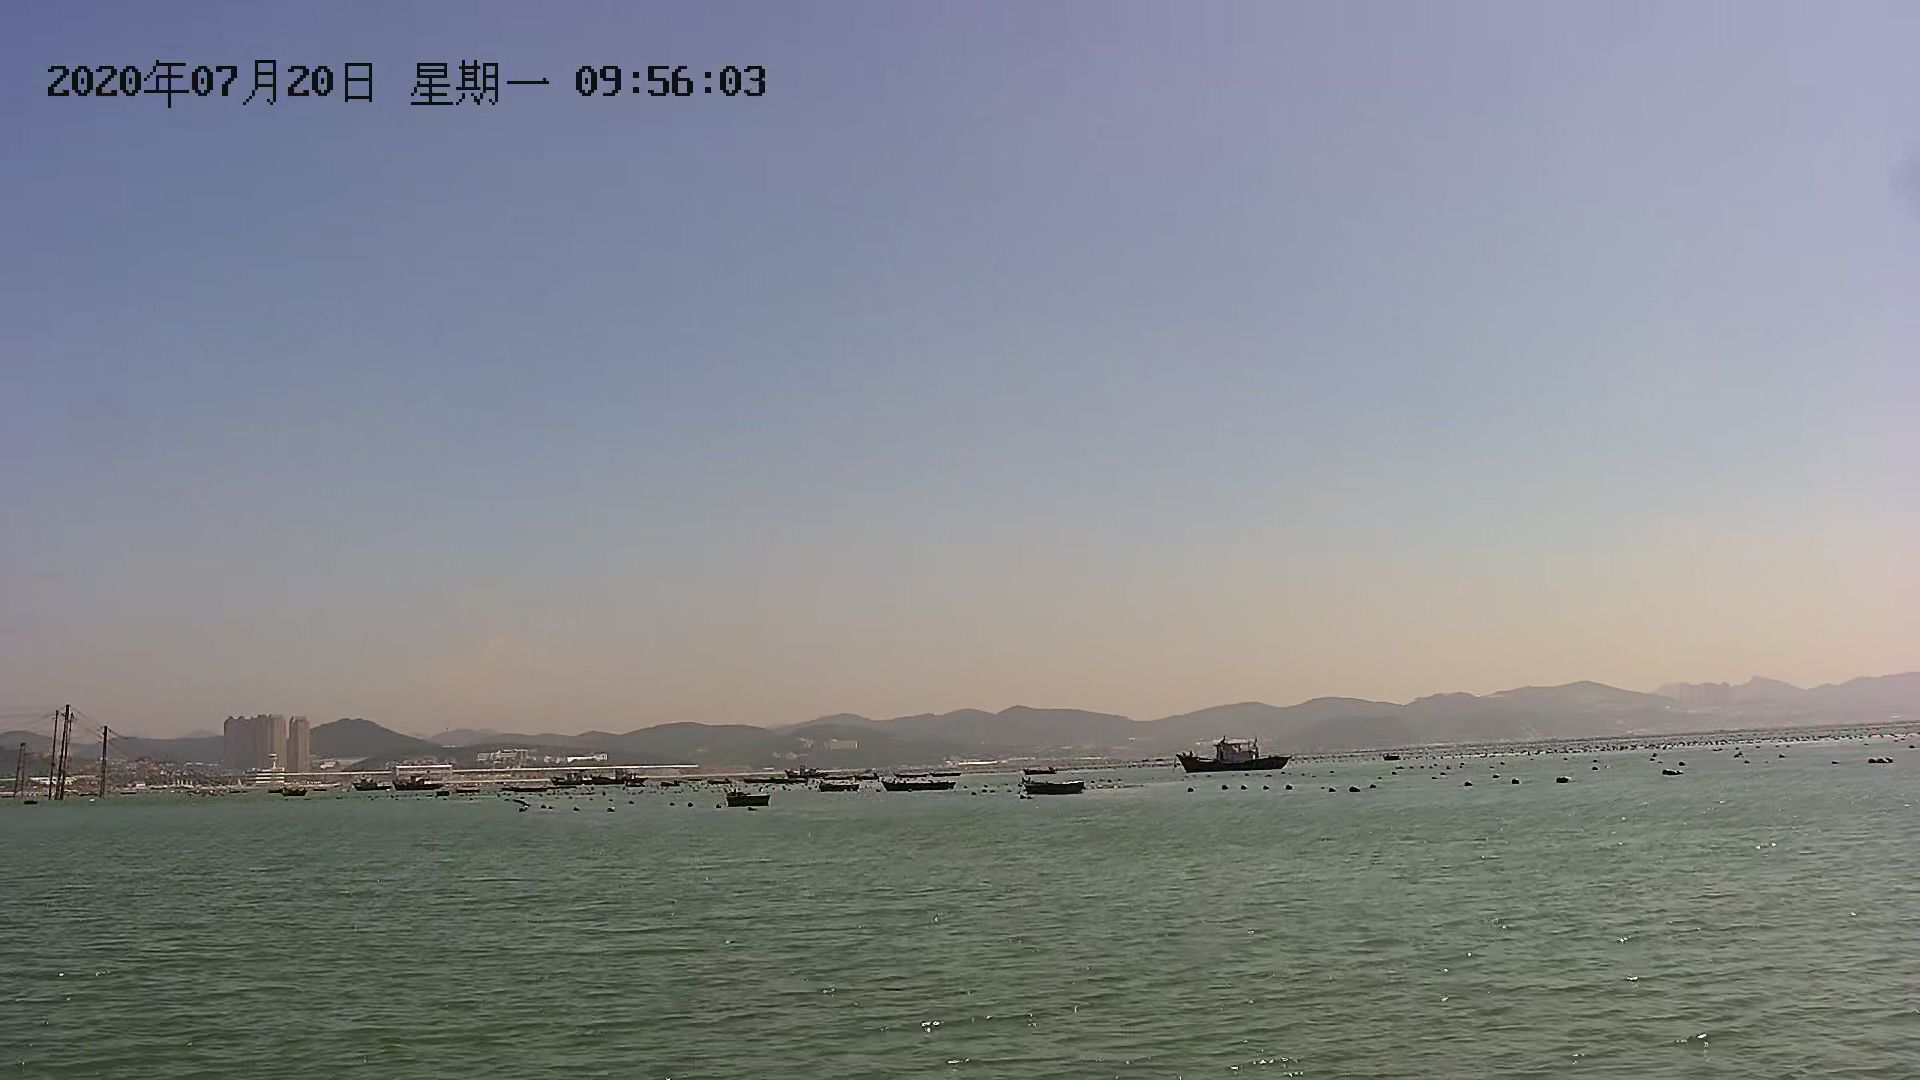boat: (884, 775, 967, 796), (1021, 775, 1087, 800), (814, 777, 865, 800), (725, 794, 782, 814)
mast: (47, 704, 71, 816), (88, 727, 116, 810), (7, 732, 32, 808)
ship: (1176, 735, 1296, 774)
